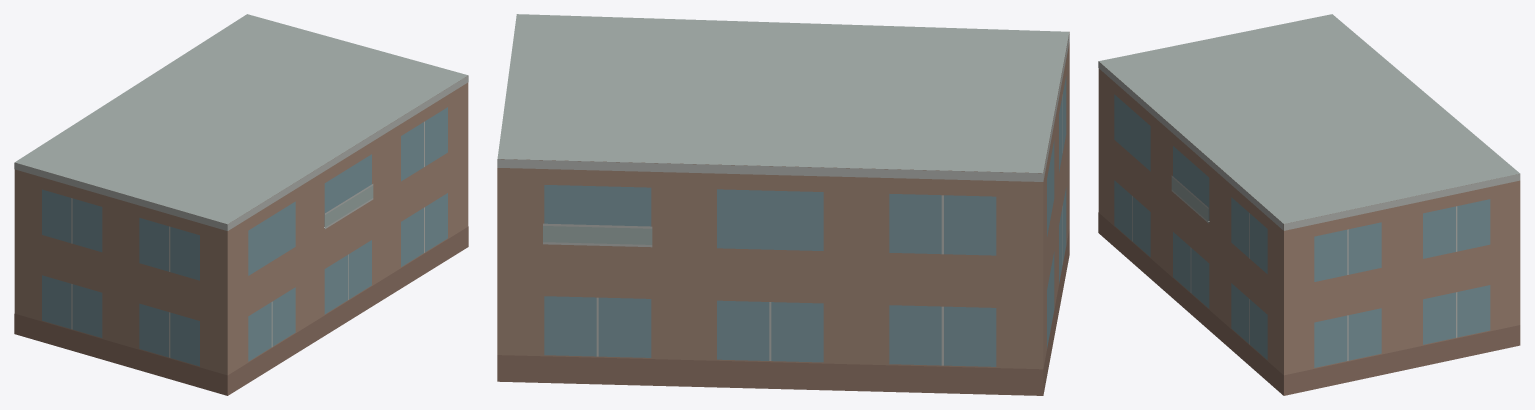
File: survey-upis-32777703.glb
3 views of the same model, side by side, from view 1: azimuth 30°, elevation 25°; view 2: azimuth 150°, elevation 25°; view 3: azimuth 270°, elevation 25° (orthographic). The views are drawn at different scales.
Visible parts, largest first — view 1: survey-upis-32777703.tmp; view 2: survey-upis-32777703.tmp; view 3: survey-upis-32777703.tmp.
Part boxes in pixels (x1=…): survey-upis-32777703.tmp: x1=14, y1=14, x2=468, y2=395; survey-upis-32777703.tmp: x1=497, y1=14, x2=1069, y2=395; survey-upis-32777703.tmp: x1=1098, y1=14, x2=1520, y2=395.
Bounding box in the file's own units: 16 × 6.1 × 13.58.
